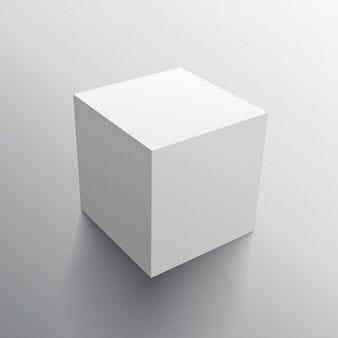cubos: (69, 60, 283, 283)
